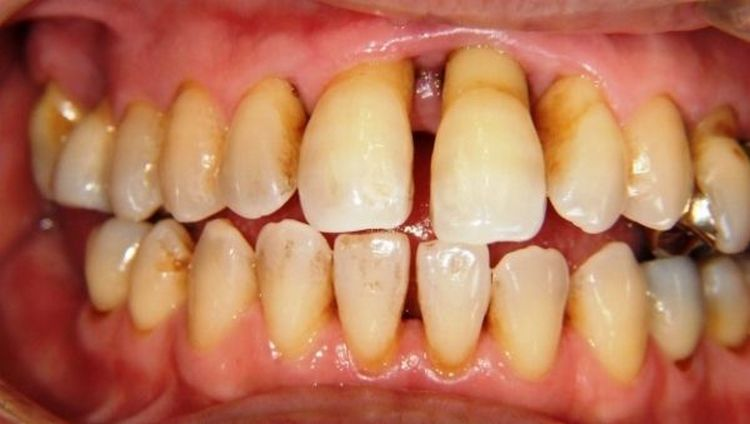LL1BC_healthy: (644, 251, 706, 372)
LLCI_healthy: (409, 240, 488, 383)
LLC_healthy: (571, 241, 643, 384)
LLLI_healthy: (489, 246, 571, 378)
LR1BC_decay: (130, 220, 196, 338)
LR2BC_healthy: (83, 223, 141, 317)
LRCI_healthy: (336, 233, 413, 385)
LRC_healthy: (184, 219, 253, 362)
LRLI_healthy: (255, 221, 328, 367)
UL1BC_decay: (687, 116, 750, 254)
ULCI_healthy: (423, 46, 546, 246)
ULC_decay: (620, 86, 694, 236)
ULLI_decay: (534, 74, 626, 235)
UR1BC_healthy: (113, 104, 162, 220)
URCI_healthy: (296, 51, 426, 235)
URC_healthy: (156, 80, 226, 223)
URLI_decay: (223, 69, 301, 221)
